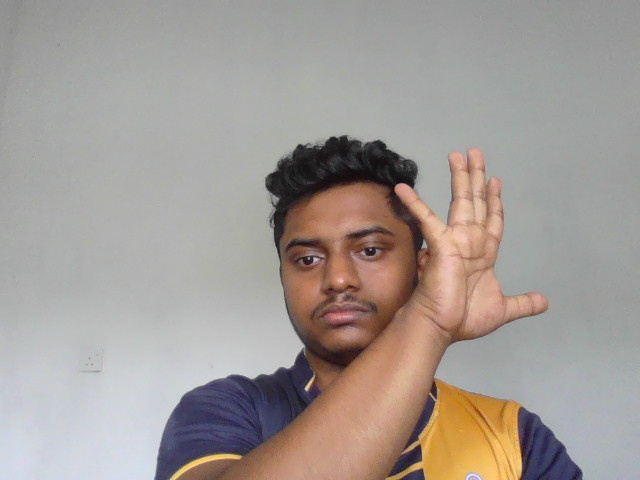Hello: (392, 146, 552, 344)
